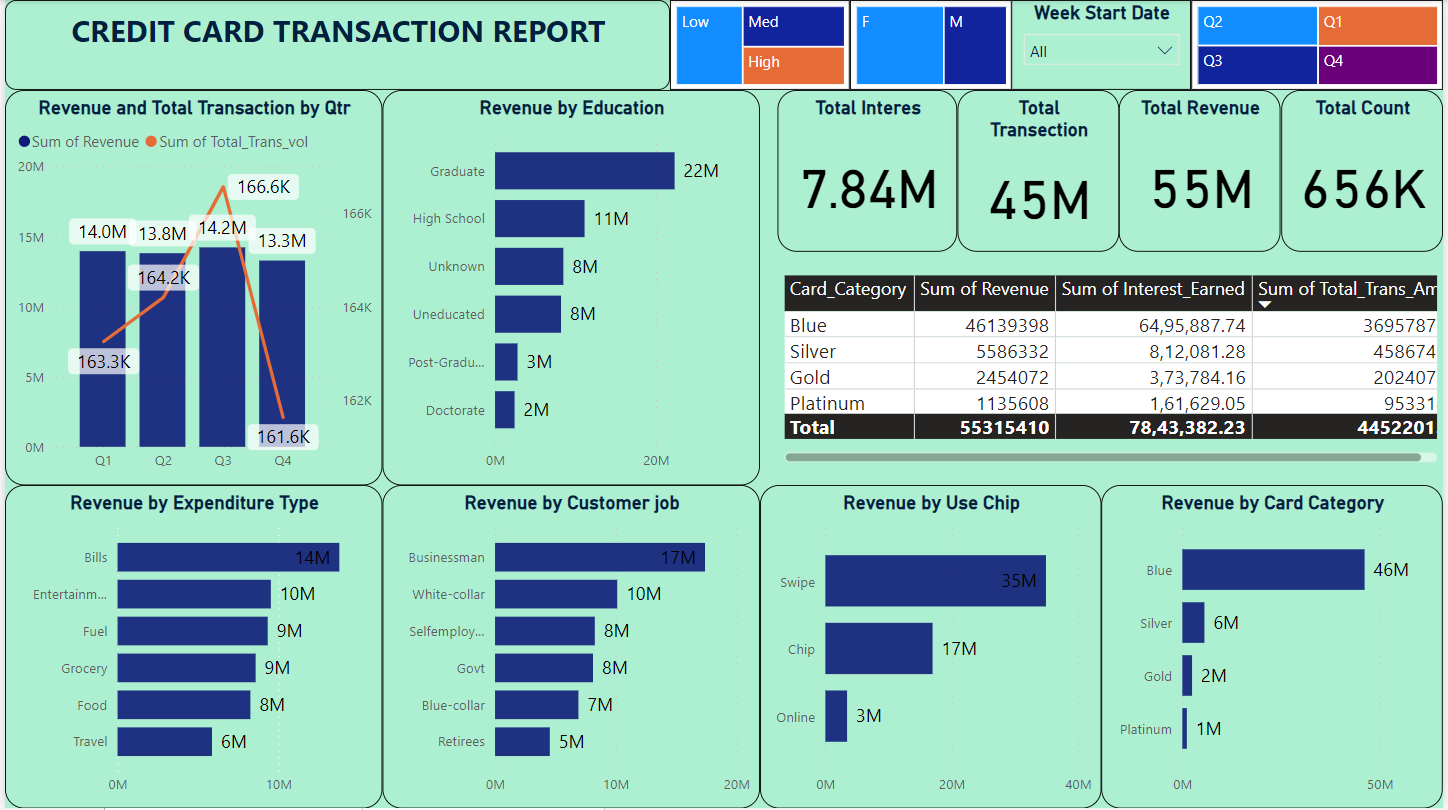

This screenshot's page, from the dashboard's own definition file:
{"tool":"powerbi","page":{"name":"Credit card Transection Report","canvas":[1280,720],"ordinal":0},"visuals":[{"type":"textbox","box":[0,0,592,80],"z":0},{"type":"lineStackedColumnComboChart","title":"Revenue and Total Transaction by Qtr","fields":{"Category":["credit_card cc_detail.Qtr"],"Y":["Sum(credit_card cc_detail.Revenue)"],"Y2":["Sum(credit_card cc_detail.Total_Trans_vol)"]},"box":[0,80,336,352],"z":1000},{"type":"barChart","title":"Revenue by Expenditure Type","fields":{"Y":["Sum(credit_card cc_detail.Revenue)"],"Category":["credit_card cc_detail.Exp_Type"]},"box":[0,432,336,288],"z":2000},{"type":"barChart","title":" Revenue by Education","fields":{"Category":["credit_card cust_detail.Education_Level"],"Y":["Sum(credit_card cc_detail.Revenue)"]},"box":[336,80,336,352],"z":3000},{"type":"barChart","title":"Revenue by Customer job","fields":{"Category":["credit_card cust_detail.Customer_Job"],"Y":["Sum(credit_card cc_detail.Revenue)"]},"box":[336,432,336,288],"z":4000},{"type":"barChart","title":"Revenue by Card Category","fields":{"Category":["credit_card cc_detail.Card_Category"],"Y":["Sum(credit_card cc_detail.Revenue)"]},"box":[976,432,304,288],"z":5000},{"type":"barChart","title":"Revenue by Use Chip","fields":{"Category":["credit_card cc_detail.Use_Chip"],"Y":["Sum(credit_card cc_detail.Revenue)"]},"box":[672,432,304,288],"z":6000},{"type":"card","title":"Total Revenue","fields":{"Values":["Sum(credit_card cc_detail.Revenue)"]},"box":[992,80,144,144],"z":7000},{"type":"card","title":"Total Interes","fields":{"Values":["Sum(credit_card cc_detail.Interest_Earned)"]},"box":[688,80,160,144],"z":8000},{"type":"card","title":"Total Transection","fields":{"Values":["Sum(credit_card cc_detail.Total_Trans_Amt)"]},"box":[848,80,144,144],"z":9000},{"type":"card","title":"Total Count","fields":{"Values":["Sum(credit_card cc_detail.Total_Trans_vol)"]},"box":[1136,80,144,144],"z":10000},{"type":"slicer","title":"Week Start Date","fields":{"Values":["credit_card cc_detail.Week_Start_Date"]},"box":[896,0,160,80],"z":11000},{"type":"treemap","fields":{"Group":["credit_card cc_detail.Qtr"],"Values":["CountNonNull(credit_card cc_detail.Client_Num)"]},"box":[1056,0,224,80],"z":12000},{"type":"treemap","fields":{"Values":["CountNonNull(credit_card cc_detail.Client_Num)"],"Group":["credit_card cust_detail.Gender"]},"box":[752,0,144,80],"z":13000},{"type":"treemap","fields":{"Values":["CountNonNull(credit_card cc_detail.Client_Num)"],"Group":["credit_card cust_detail.income group"]},"box":[592,0,160,80],"z":14000},{"type":"tableEx","fields":{"Values":["credit_card cc_detail.Card_Category","Sum(credit_card cc_detail.Revenue)","Sum(credit_card cc_detail.Interest_Earned)","Sum(credit_card cc_detail.Total_Trans_Amt)"]},"box":[688,240,592,176],"z":16000}]}

Visuals, with their boxes in screenshot pixels (x1, y1, x2, y2), scaled from the page's 1280x720 canvas onto the 1448x810 screenshot:
textbox: bbox=(0, 0, 670, 90)
"Revenue and Total Transaction by Qtr" lineStackedColumnComboChart: bbox=(0, 90, 380, 486)
"Revenue by Expenditure Type" barChart: bbox=(0, 486, 380, 809)
" Revenue by Education" barChart: bbox=(380, 90, 760, 486)
"Revenue by Customer job" barChart: bbox=(380, 486, 760, 809)
"Revenue by Card Category" barChart: bbox=(1104, 486, 1447, 809)
"Revenue by Use Chip" barChart: bbox=(760, 486, 1104, 809)
"Total Revenue" card: bbox=(1122, 90, 1285, 252)
"Total Interes" card: bbox=(778, 90, 959, 252)
"Total Transection" card: bbox=(959, 90, 1122, 252)
"Total Count" card: bbox=(1285, 90, 1447, 252)
"Week Start Date" slicer: bbox=(1014, 0, 1195, 90)
treemap - credit_card cc_detail.Qtr x CountNonNull(credit_card cc_detail.Client_Num): bbox=(1195, 0, 1447, 90)
treemap - CountNonNull(credit_card cc_detail.Client_Num) x credit_card cust_detail.Gender: bbox=(851, 0, 1014, 90)
treemap - CountNonNull(credit_card cc_detail.Client_Num) x credit_card cust_detail.income group: bbox=(670, 0, 851, 90)
tableEx - credit_card cc_detail.Card_Category x Sum(credit_card cc_detail.Revenue): bbox=(778, 270, 1447, 468)
